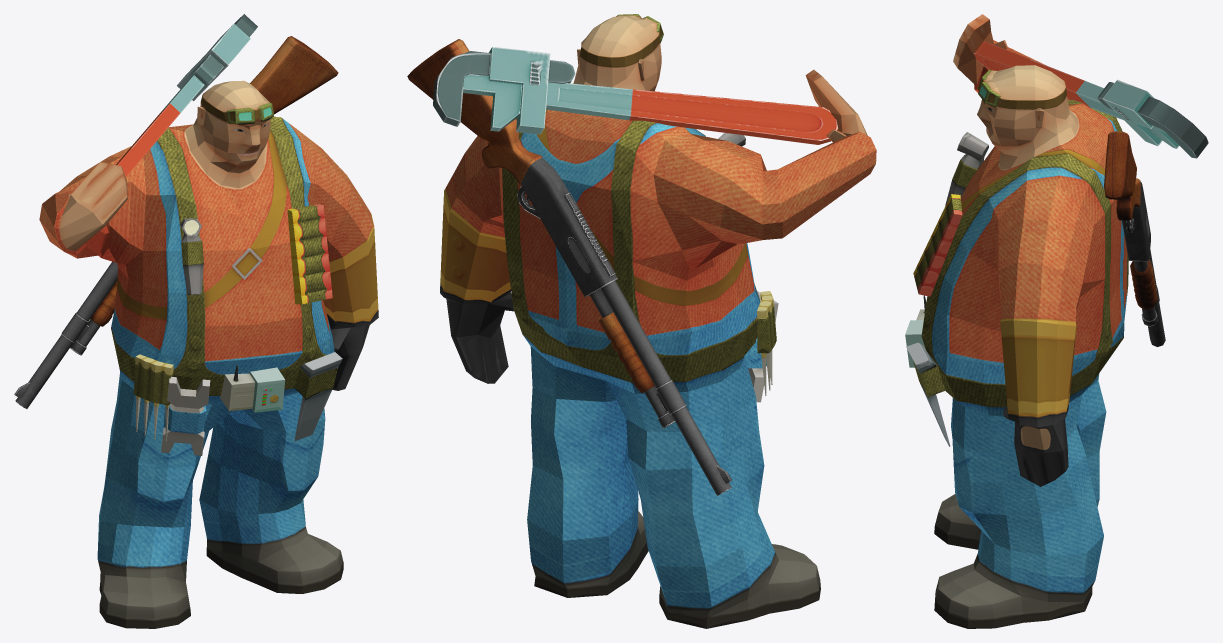
Rendered from Engineer.fbx.
3 views of the same model, side by side, from view 1: azimuth 30°, elevation 25°; view 2: azimuth 150°, elevation 25°; view 3: azimuth 270°, elevation 25° (orthographic). The views are drawn at different scales.
Visible parts, largest first — view 1: Engineer_baseBody_Shape, shotGunBody, wrenchLow, Engineer_bullet_Shape, Engineer_spanner_Shape, Engineer_equipment_Shape, Engineer_chisel_Shape, Engineer_screwdrivers_Shape, Engineer_flashLight_Shape, shotGun_Pump; view 2: Engineer_baseBody_Shape, wrenchLow, shotGunBody, shotGun_Pump, Engineer_screwdrivers_Shape, Engineer_spanner_Shape; view 3: Engineer_baseBody_Shape, wrenchLow, shotGunBody, Engineer_bullet_Shape, Engineer_chisel_Shape, Engineer_flashLight_Shape, shotGun_Pump, Engineer_equipment_Shape.
Part boxes in pixels (x1,y1,x2,y2): Engineer_baseBody_Shape: (39,80,378,628); shotGunBody: (14,36,338,408); wrenchLow: (116,14,257,176); Engineer_bullet_Shape: (287,204,332,304); Engineer_spanner_Shape: (161,376,210,455); Engineer_equipment_Shape: (219,365,285,412); Engineer_chisel_Shape: (294,352,342,440); Engineer_screwdrivers_Shape: (133,354,173,441); Engineer_flashLight_Shape: (180,218,203,294); shotGun_Pump: (90,280,117,326); Engineer_baseBody_Shape: (440,14,876,628); wrenchLow: (433,47,838,144); shotGunBody: (407,39,731,495); shotGun_Pump: (598,312,654,392); Engineer_screwdrivers_Shape: (757,291,776,395); Engineer_spanner_Shape: (744,291,778,402); Engineer_baseBody_Shape: (921,14,1128,628); wrenchLow: (973,41,1208,158); shotGunBody: (1104,131,1165,346); Engineer_bullet_Shape: (913,194,962,296); Engineer_chisel_Shape: (906,342,950,446); Engineer_flashLight_Shape: (945,132,988,205); shotGun_Pump: (1130,259,1157,310); Engineer_equipment_Shape: (905,295,926,367).
Bounding box in the file's own units: 16.59 × 22.33 × 11.68.
3 materials, 3 textured.
